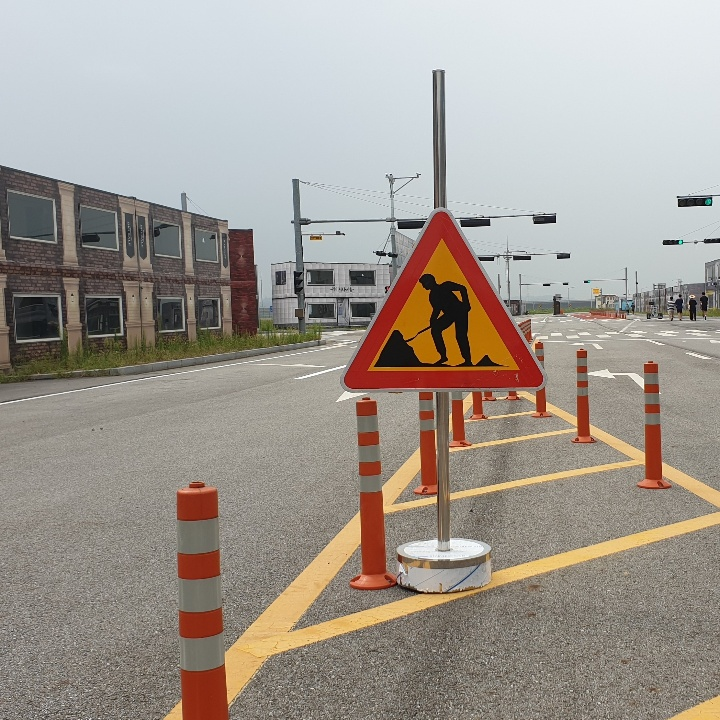const: (370, 255, 514, 372)
